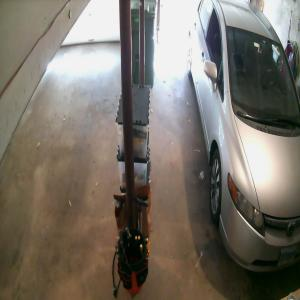garbage bin: (130, 0, 156, 88)
honda civic: (188, 0, 300, 272)
tool bucket: (115, 226, 149, 296)
